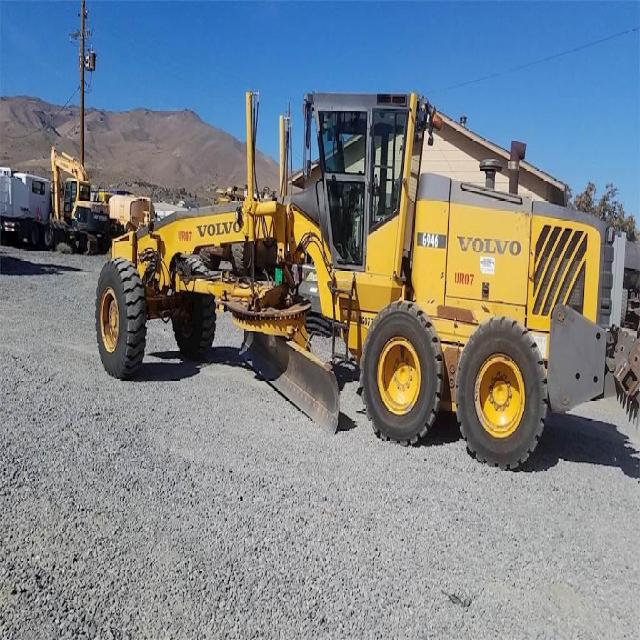Grader: (90, 70, 627, 507)
